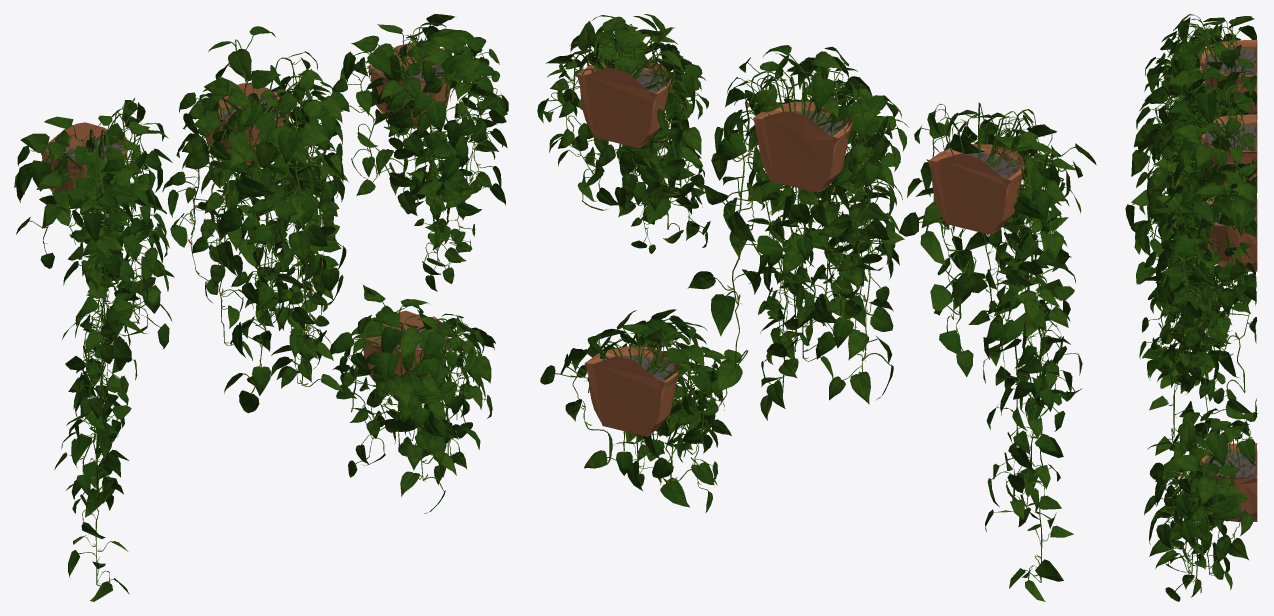
3 renders of one model, left to right at view 1: azimuth 30°, elevation 25°; view 2: azimuth 150°, elevation 25°; view 3: azimuth 270°, elevation 25°, orthographic. The views are drawn at different scales.
Visible parts, largest first — view 1: mesh_5_ROOT__Philodendron_Hanging_Wall_3_Layer0, mesh_8_ROOT__Philodendron_Hanging_Wall_4_Layer0, mesh_1_ROOT__Philodendron_Hanging_Wall_2_Layer0, mesh_3_ROOT__Philodendron_Hanging_Wall_1_Layer0, mesh_11_ROOT__Pot_Hanging_Wall_1_Layer0, mesh_9_ROOT__Pot_Hanging_Wall_1_Layer0, mesh_15_ROOT__Pot_Hanging_Wall_1_Layer0, mesh_6_ROOT__Pot_Hanging_Wall_4_Layer0; view 2: mesh_5_ROOT__Philodendron_Hanging_Wall_3_Layer0, mesh_8_ROOT__Philodendron_Hanging_Wall_4_Layer0, mesh_1_ROOT__Philodendron_Hanging_Wall_2_Layer0, mesh_3_ROOT__Philodendron_Hanging_Wall_1_Layer0, mesh_9_ROOT__Pot_Hanging_Wall_1_Layer0, mesh_11_ROOT__Pot_Hanging_Wall_1_Layer0, mesh_15_ROOT__Pot_Hanging_Wall_1_Layer0, mesh_14_ROOT__Pot_Hanging_Wall_1_Layer0, mesh_4_ROOT__Pot_Hanging_Wall_3_Layer0, mesh_6_ROOT__Pot_Hanging_Wall_4_Layer0; view 3: mesh_1_ROOT__Philodendron_Hanging_Wall_2_Layer0, mesh_5_ROOT__Philodendron_Hanging_Wall_3_Layer0, mesh_3_ROOT__Philodendron_Hanging_Wall_1_Layer0, mesh_8_ROOT__Philodendron_Hanging_Wall_4_Layer0, mesh_11_ROOT__Pot_Hanging_Wall_1_Layer0, mesh_9_ROOT__Pot_Hanging_Wall_1_Layer0, mesh_6_ROOT__Pot_Hanging_Wall_4_Layer0, mesh_4_ROOT__Pot_Hanging_Wall_3_Layer0, mesh_0_ROOT__Soil_Hanging_Wall_1_Layer0, mesh_13_ROOT__Soil_Hanging_Wall_1_Layer0, mesh_2_ROOT__Soil_Hanging_Wall_3_Layer0, mesh_14_ROOT__Pot_Hanging_Wall_1_Layer0 (+1 smaller).
Part boxes in pixels (box(x1,y1,x2,y2)): mesh_5_ROOT__Philodendron_Hanging_Wall_3_Layer0: box(162, 26, 349, 413); mesh_8_ROOT__Philodendron_Hanging_Wall_4_Layer0: box(14, 98, 174, 601); mesh_1_ROOT__Philodendron_Hanging_Wall_2_Layer0: box(332, 14, 508, 291); mesh_3_ROOT__Philodendron_Hanging_Wall_1_Layer0: box(330, 285, 495, 513); mesh_11_ROOT__Pot_Hanging_Wall_1_Layer0: box(367, 42, 450, 128); mesh_9_ROOT__Pot_Hanging_Wall_1_Layer0: box(361, 310, 448, 395); mesh_15_ROOT__Pot_Hanging_Wall_1_Layer0: box(41, 122, 126, 208); mesh_6_ROOT__Pot_Hanging_Wall_4_Layer0: box(46, 122, 128, 187); mesh_5_ROOT__Philodendron_Hanging_Wall_3_Layer0: box(687, 45, 908, 420); mesh_8_ROOT__Philodendron_Hanging_Wall_4_Layer0: box(899, 102, 1096, 601); mesh_1_ROOT__Philodendron_Hanging_Wall_2_Layer0: box(537, 14, 710, 253); mesh_3_ROOT__Philodendron_Hanging_Wall_1_Layer0: box(540, 309, 741, 512); mesh_9_ROOT__Pot_Hanging_Wall_1_Layer0: box(584, 346, 680, 436); mesh_11_ROOT__Pot_Hanging_Wall_1_Layer0: box(576, 62, 671, 148); mesh_15_ROOT__Pot_Hanging_Wall_1_Layer0: box(929, 144, 1024, 234); mesh_14_ROOT__Pot_Hanging_Wall_1_Layer0: box(757, 101, 852, 192); mesh_4_ROOT__Pot_Hanging_Wall_3_Layer0: box(753, 101, 848, 191); mesh_6_ROOT__Pot_Hanging_Wall_4_Layer0: box(928, 148, 1023, 234); mesh_1_ROOT__Philodendron_Hanging_Wall_2_Layer0: box(1139, 158, 1257, 394); mesh_5_ROOT__Philodendron_Hanging_Wall_3_Layer0: box(1130, 58, 1257, 424); mesh_3_ROOT__Philodendron_Hanging_Wall_1_Layer0: box(1144, 398, 1257, 601); mesh_8_ROOT__Philodendron_Hanging_Wall_4_Layer0: box(1125, 14, 1256, 455); mesh_11_ROOT__Pot_Hanging_Wall_1_Layer0: box(1201, 193, 1257, 271); mesh_9_ROOT__Pot_Hanging_Wall_1_Layer0: box(1200, 443, 1257, 521); mesh_6_ROOT__Pot_Hanging_Wall_4_Layer0: box(1199, 41, 1257, 119); mesh_4_ROOT__Pot_Hanging_Wall_3_Layer0: box(1199, 117, 1256, 193); mesh_0_ROOT__Soil_Hanging_Wall_1_Layer0: box(1205, 449, 1256, 477); mesh_13_ROOT__Soil_Hanging_Wall_1_Layer0: box(1205, 48, 1256, 74); mesh_2_ROOT__Soil_Hanging_Wall_3_Layer0: box(1204, 124, 1256, 148); mesh_14_ROOT__Pot_Hanging_Wall_1_Layer0: box(1200, 114, 1257, 192).
Bounding box in the file's own units: 1017782 × 970863 × 250872.
Materials: 3 (1 with a texture image).
